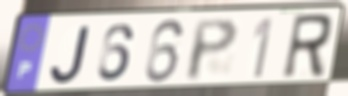1: (252, 15, 275, 81)
6: (144, 18, 186, 86), (97, 22, 136, 84)
J: (48, 24, 92, 86)
P: (184, 16, 240, 84)
R: (279, 12, 335, 82)
